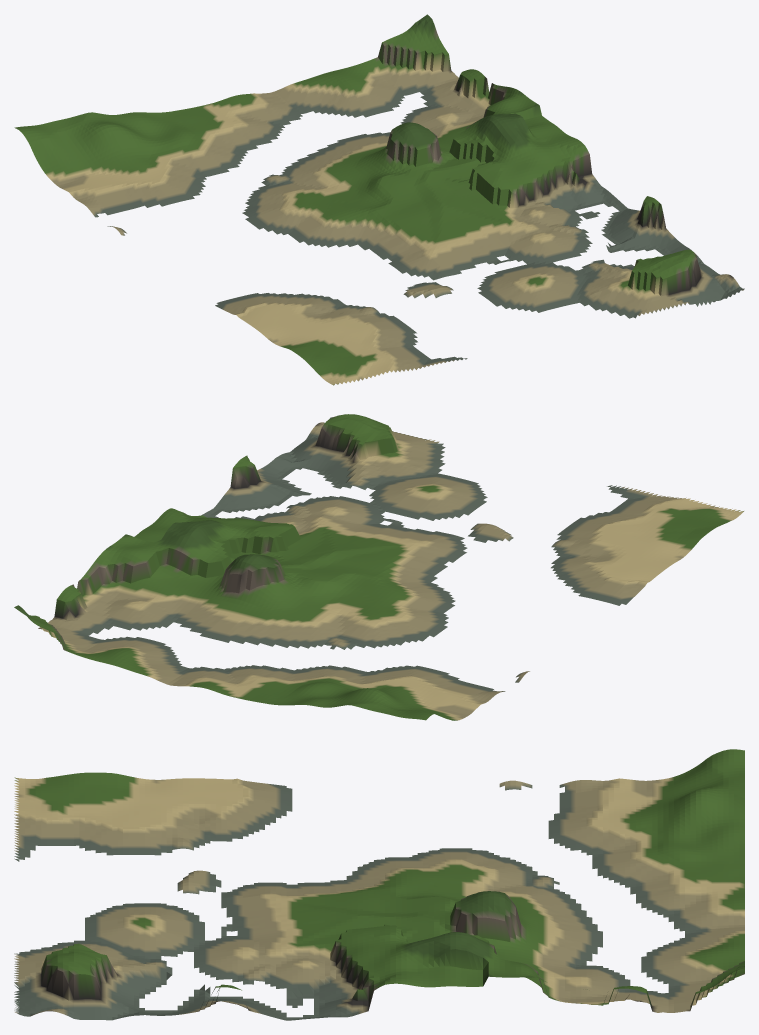
File: coast_tile_x0z1.glb
3 renders of one model, top to bottom at view 1: azimuth 30°, elevation 25°; view 2: azimuth 150°, elevation 25°; view 3: azimuth 270°, elevation 25°, orthographic. The views are drawn at different scales.
Visible parts, largest first — view 1: geometry_0; view 2: geometry_0; view 3: geometry_0.
Part boxes in pixels (box(x1,y1,x2,y2)): geometry_0: box(14, 14, 744, 385); geometry_0: box(14, 414, 743, 720); geometry_0: box(14, 749, 744, 1020).
Size of the model in its own units: 600 by 69.48 by 804.
